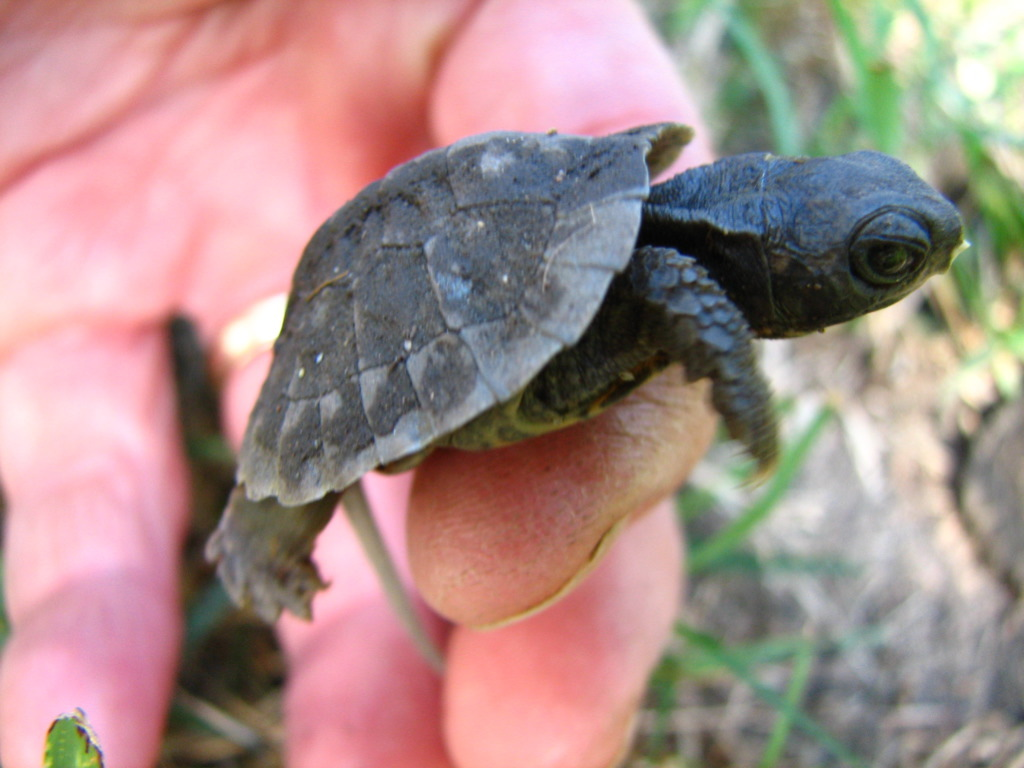Sea turtles: (195, 110, 976, 625)
